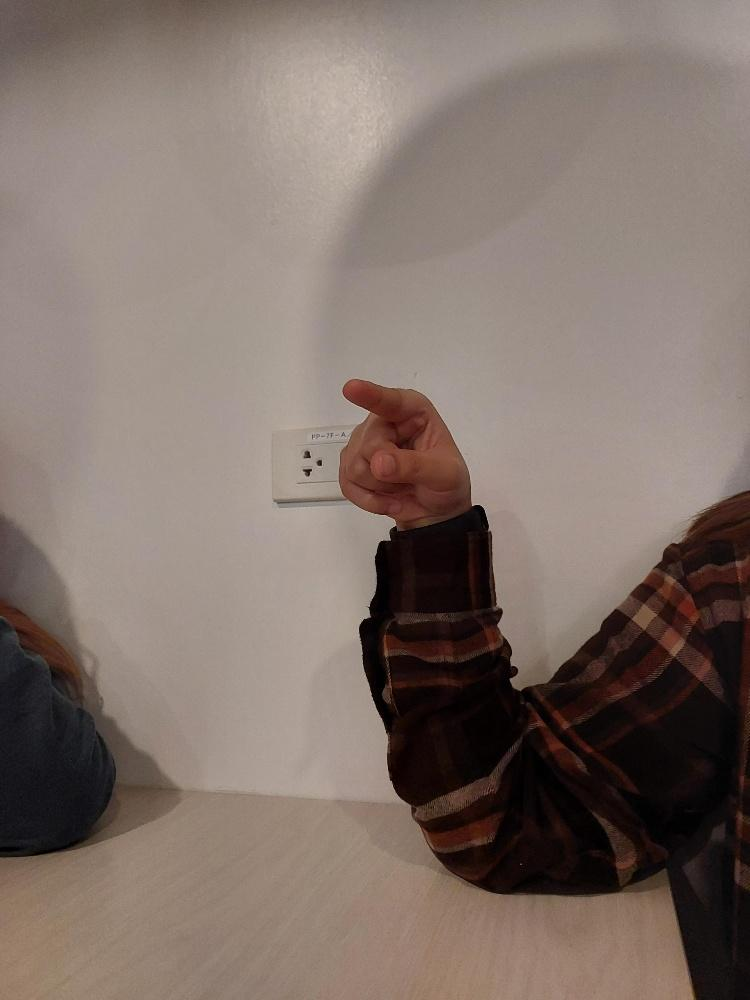z: (335, 373, 474, 529)
